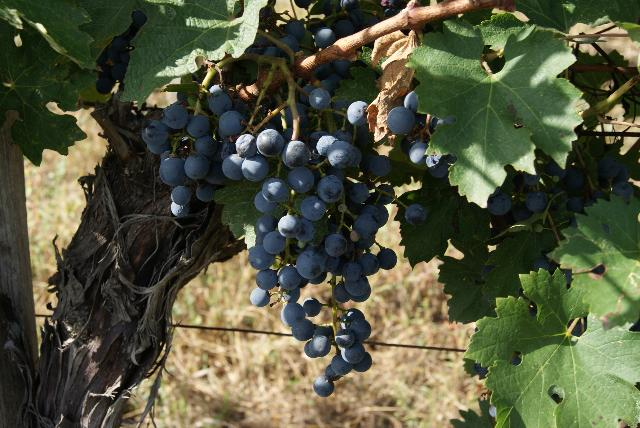grapes: (235, 75, 391, 301), (141, 85, 245, 218), (281, 299, 370, 375)
